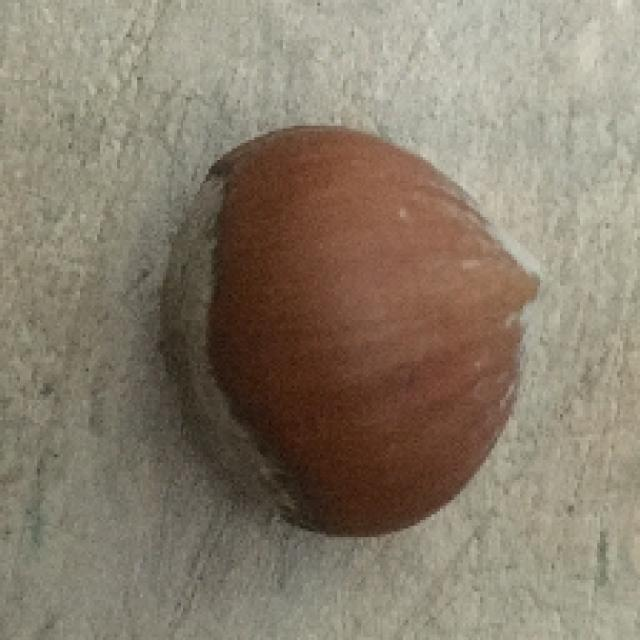qualityHazelnut: (161, 124, 556, 550)
